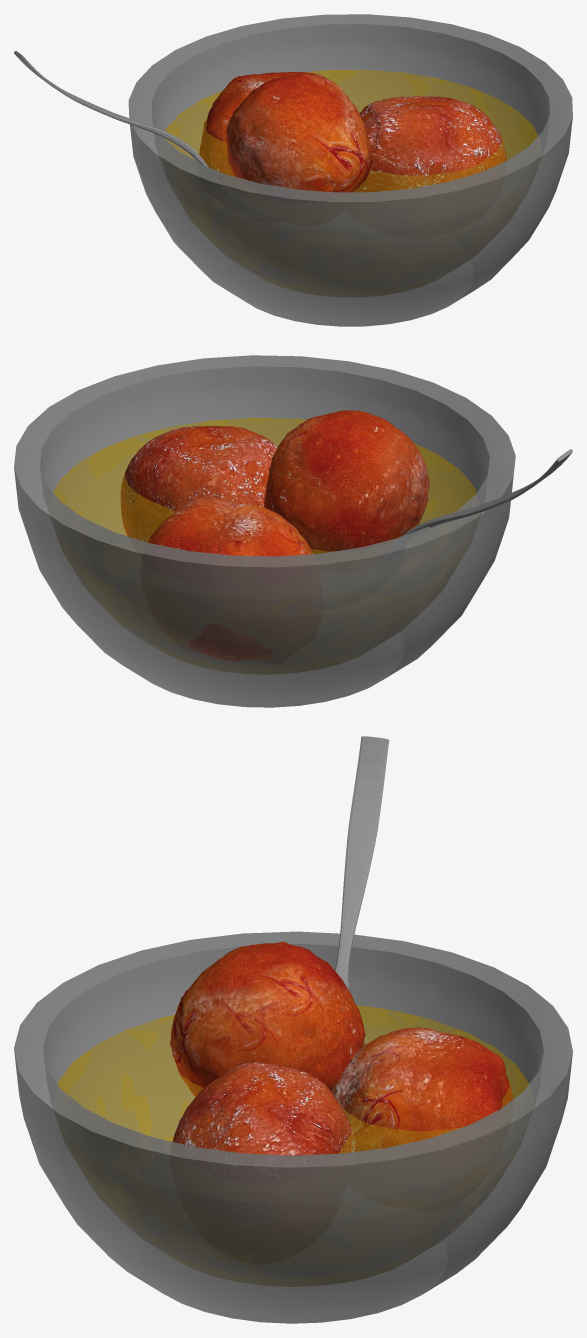
The model's file is gulab-jamun.glb.
3 views of the same model, one above another, from view 1: azimuth 30°, elevation 25°; view 2: azimuth 150°, elevation 25°; view 3: azimuth 270°, elevation 25° (orthographic). The views are drawn at different scales.
Parts seen in each view (by area): view 1: glass_0, gl04_2_0, gl01_2_0, shirop_0, gl02_2_0, Spoon_0; view 2: glass_0, gl04_2_0, gl01_2_0, shirop_0, gl02_2_0, Spoon_0; view 3: glass_0, gl04_2_0, shirop_0, gl02_2_0, gl01_2_0, Spoon_0.
Boxes of the visible parts, x1,y1,x2,y2 form: glass_0: [128, 14, 572, 326]; gl04_2_0: [226, 73, 372, 192]; gl01_2_0: [359, 96, 506, 192]; shirop_0: [165, 69, 537, 295]; gl02_2_0: [199, 72, 348, 176]; Spoon_0: [14, 51, 208, 166]; glass_0: [14, 355, 515, 707]; gl04_2_0: [264, 410, 429, 553]; gl01_2_0: [120, 426, 277, 542]; shirop_0: [53, 418, 476, 616]; gl02_2_0: [148, 497, 313, 660]; Spoon_0: [401, 449, 572, 536]; glass_0: [14, 931, 572, 1323]; gl04_2_0: [169, 941, 365, 1096]; shirop_0: [57, 1005, 529, 1285]; gl02_2_0: [331, 1027, 513, 1151]; gl01_2_0: [172, 1062, 356, 1155]; Spoon_0: [335, 736, 389, 1044].
Size of the model in its own units: 5.74 by 3 by 4.49.
6 materials, 3 textured.
